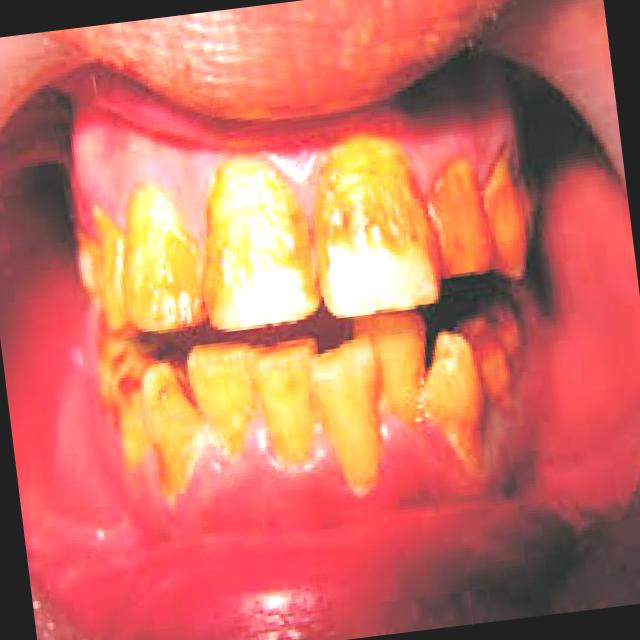calculus: (292, 118, 446, 323), (190, 152, 322, 339), (109, 163, 216, 347), (243, 322, 324, 476), (302, 332, 376, 488), (357, 302, 432, 440), (429, 149, 492, 280), (140, 348, 202, 480), (427, 337, 493, 451), (186, 334, 248, 442), (482, 156, 537, 269)
